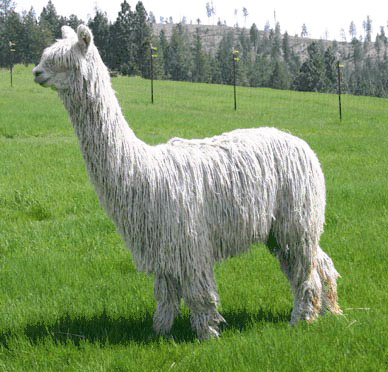alpaca: (31, 25, 343, 341)
